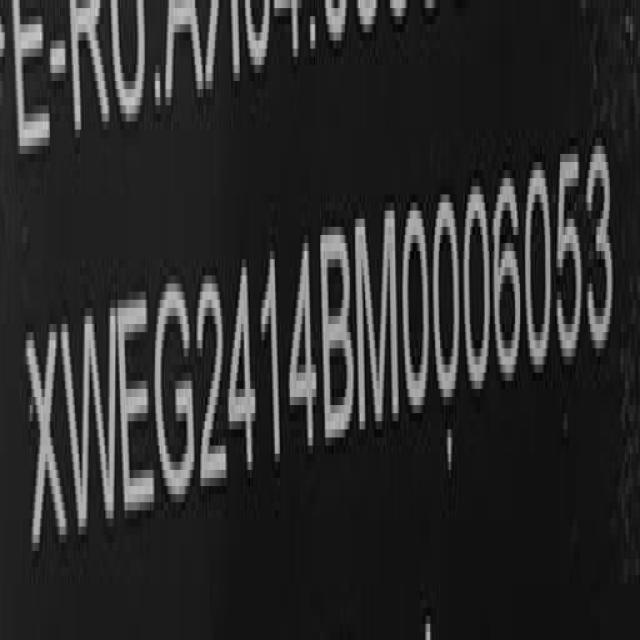0: (402, 198, 432, 422), (464, 186, 493, 397), (525, 160, 553, 378), (433, 195, 461, 406)
1: (260, 244, 282, 478)
2: (199, 272, 229, 499)
3: (590, 136, 616, 357)
4: (291, 234, 321, 466), (227, 259, 256, 492)
5: (555, 144, 582, 370)
6: (494, 172, 524, 383)
B: (324, 221, 354, 450)
E: (120, 288, 157, 528)
G: (156, 280, 196, 509)
M: (359, 212, 401, 438)
W: (70, 302, 118, 540)
X: (32, 321, 66, 562)
